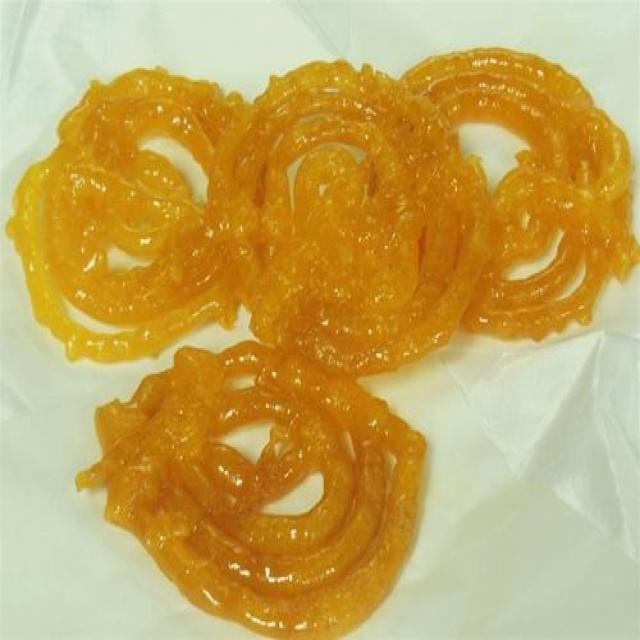jalebi: (267, 44, 634, 378), (94, 346, 418, 636), (14, 76, 245, 356)
